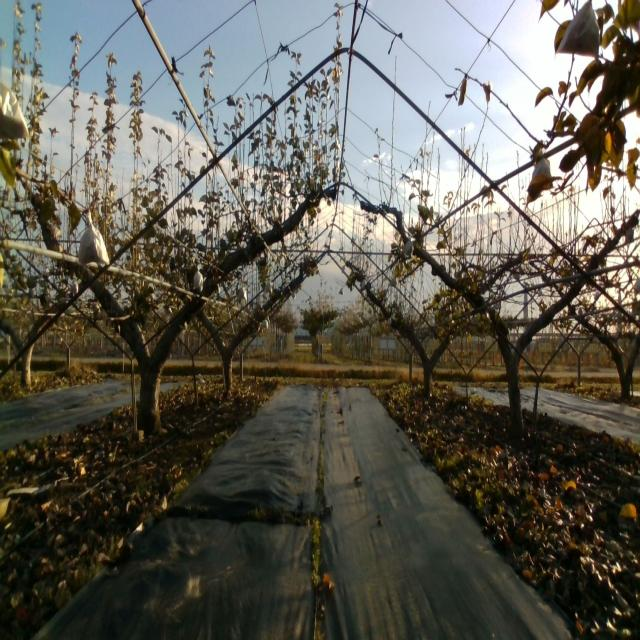pearbags: (553, 0, 601, 61), (77, 210, 112, 266), (530, 148, 554, 186), (192, 265, 204, 290), (402, 240, 414, 261)
